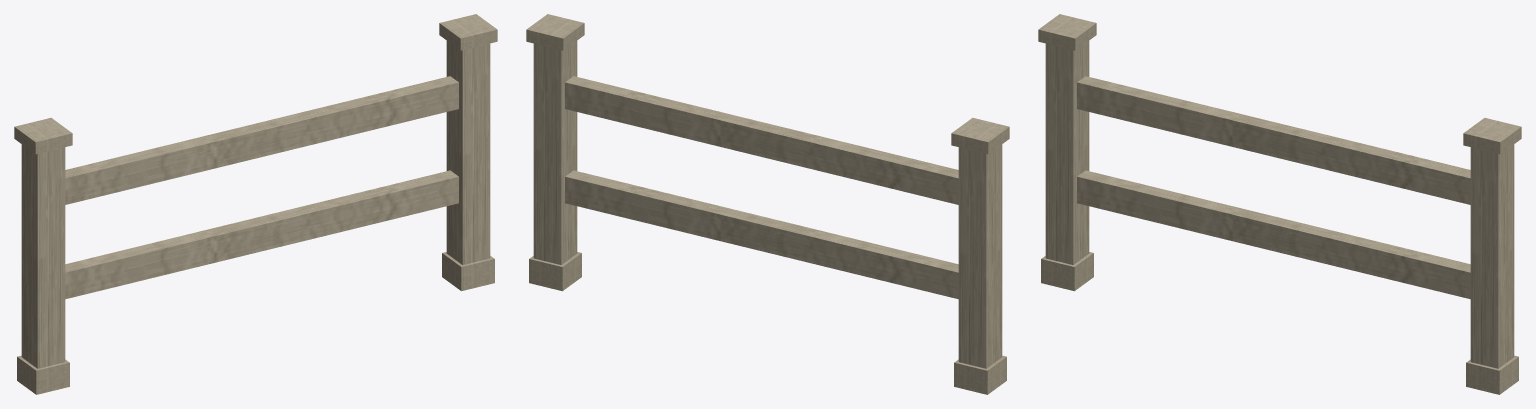
File: fence_two_rail.glb
3 renders of one model, left to right at view 1: azimuth 30°, elevation 25°; view 2: azimuth 150°, elevation 25°; view 3: azimuth 330°, elevation 25°, orthographic.
Parts seen in each view (by area): view 1: outdoor_fence_two_rail; view 2: outdoor_fence_two_rail; view 3: outdoor_fence_two_rail.
Part boxes in pixels (x1,y1,x2,y2): outdoor_fence_two_rail: (14,14,497,394); outdoor_fence_two_rail: (526,14,1009,394); outdoor_fence_two_rail: (1038,14,1521,394).
Size of the model in its own units: 2 by 1.05 by 0.16.
1 material, 1 textured.
